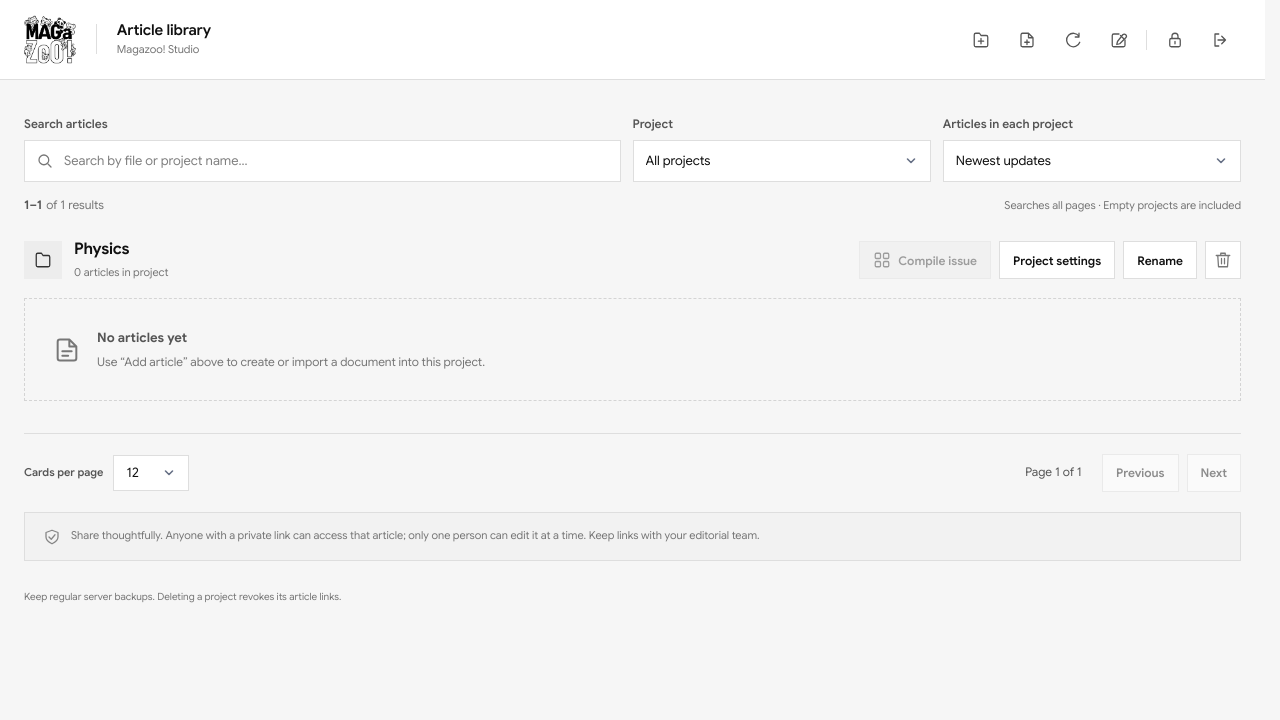
it: keeps dashboard copy functional without promotional taglines
This screenshot has width=1280, height=720.
Click the button named "New project" at {"x": 981, "y": 40}, box [961, 20, 1001, 60]
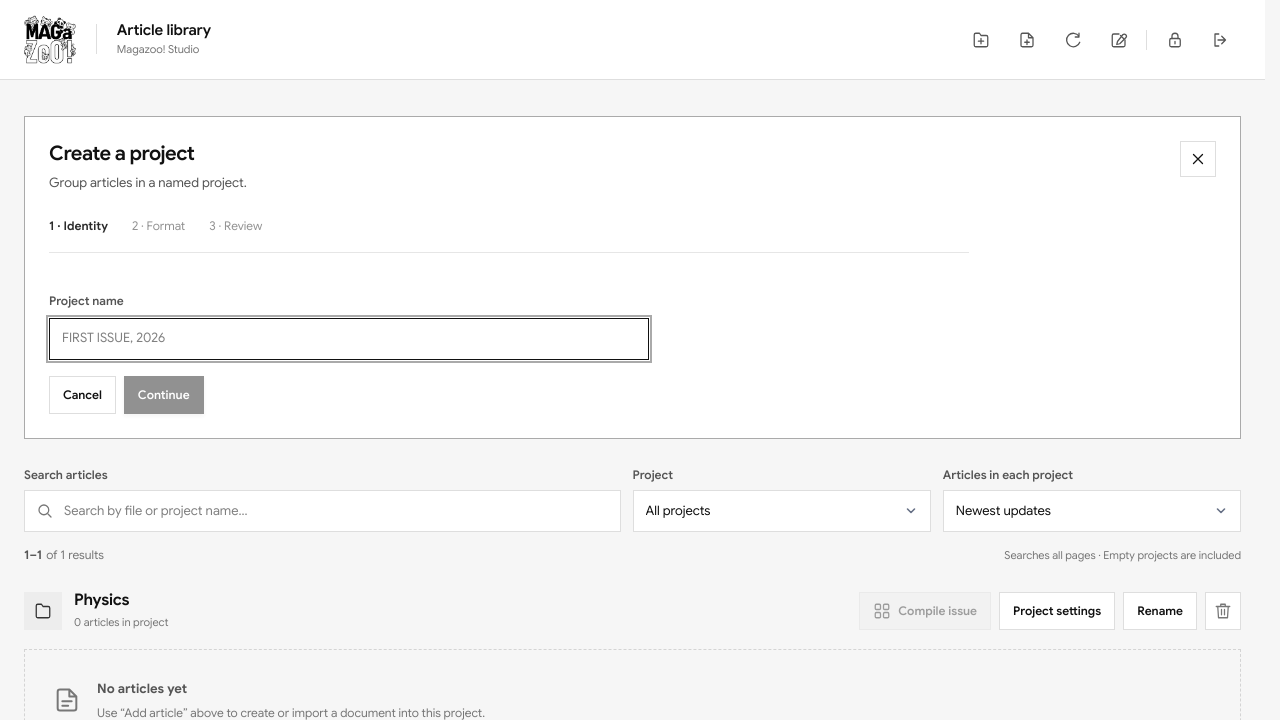
Expected: the text "Group articles in a named project." is shown, [49, 173, 247, 193]
